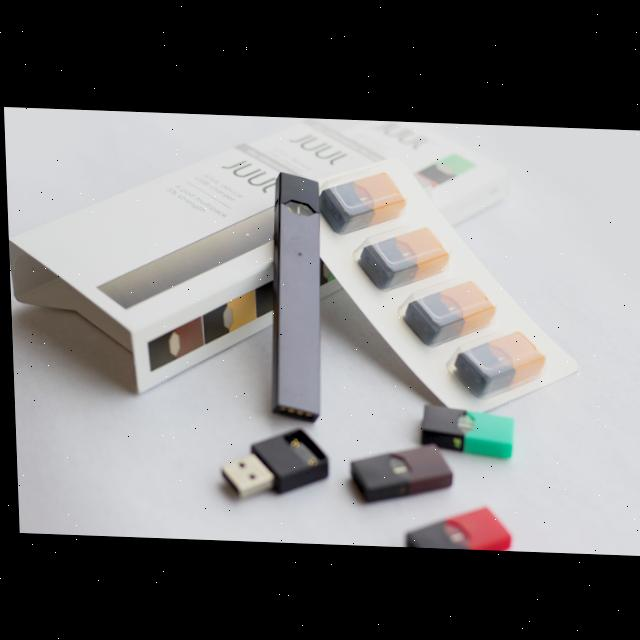vape: (260, 168, 325, 423)
